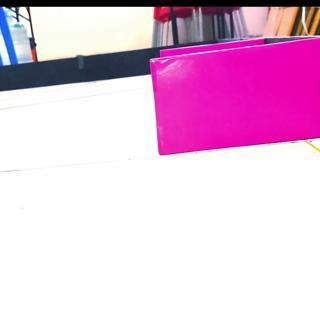xparking: (152, 51, 320, 155)
